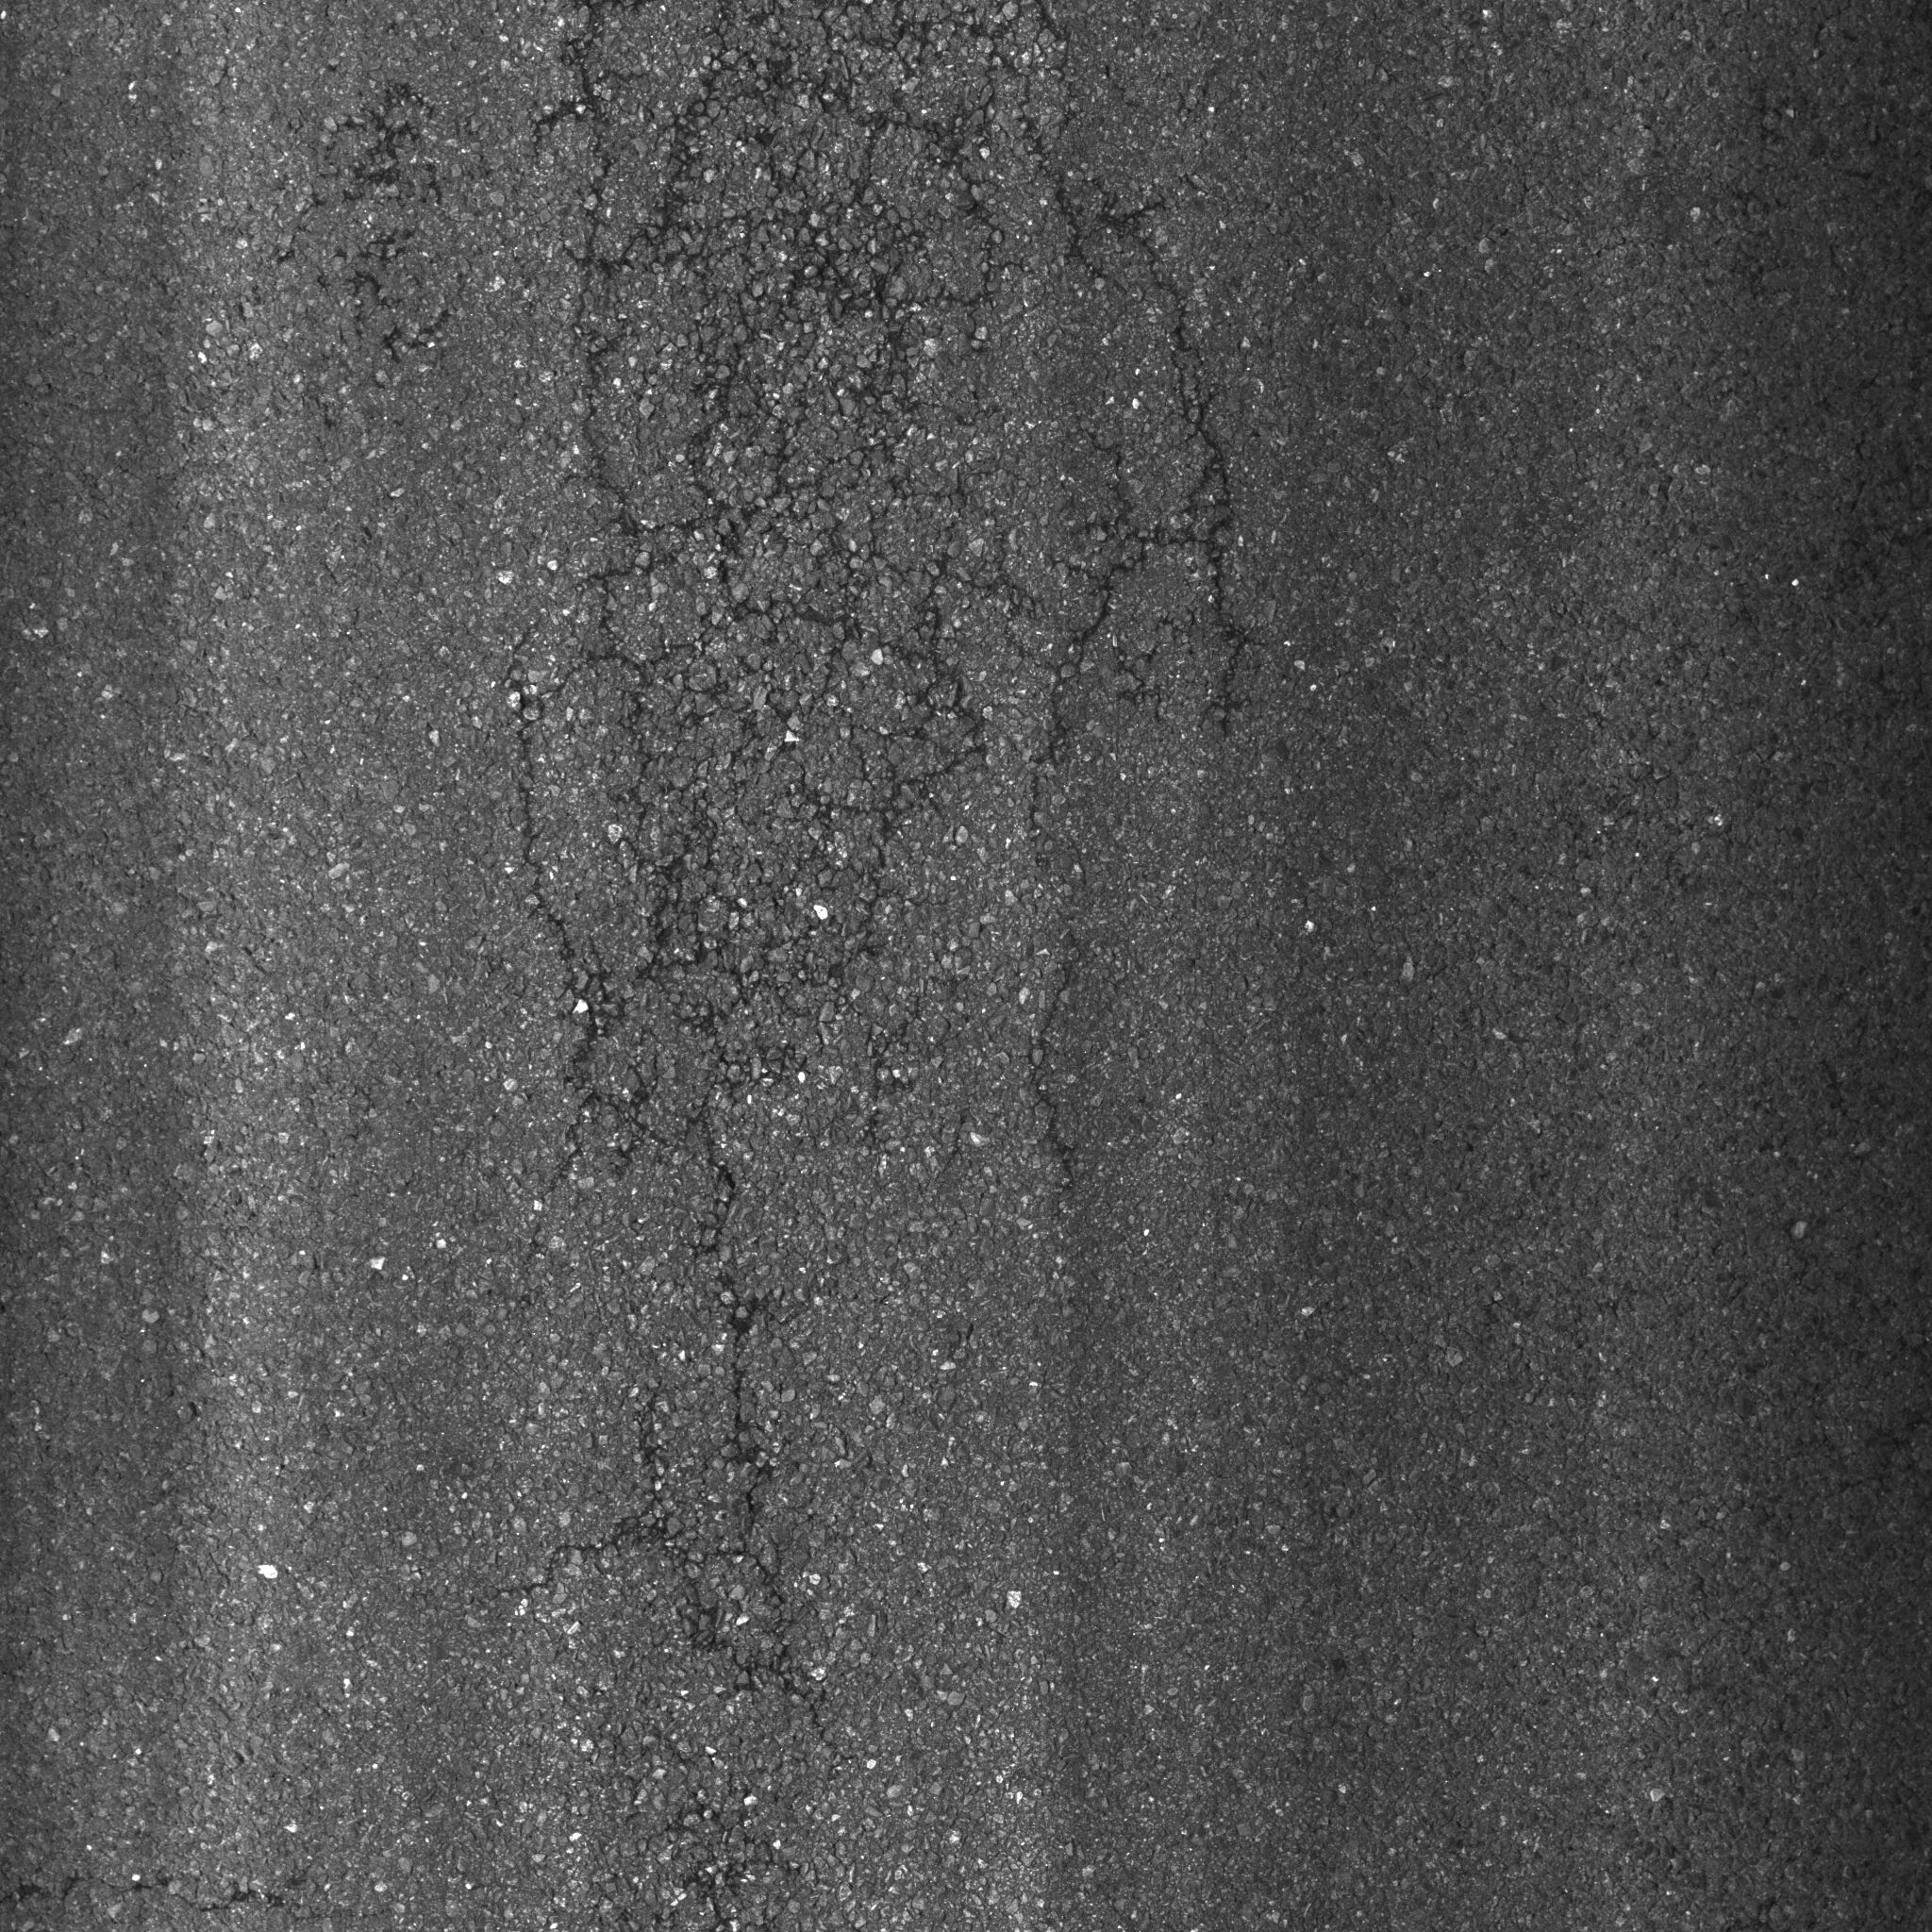alligator: (352, 5, 1277, 1764)
